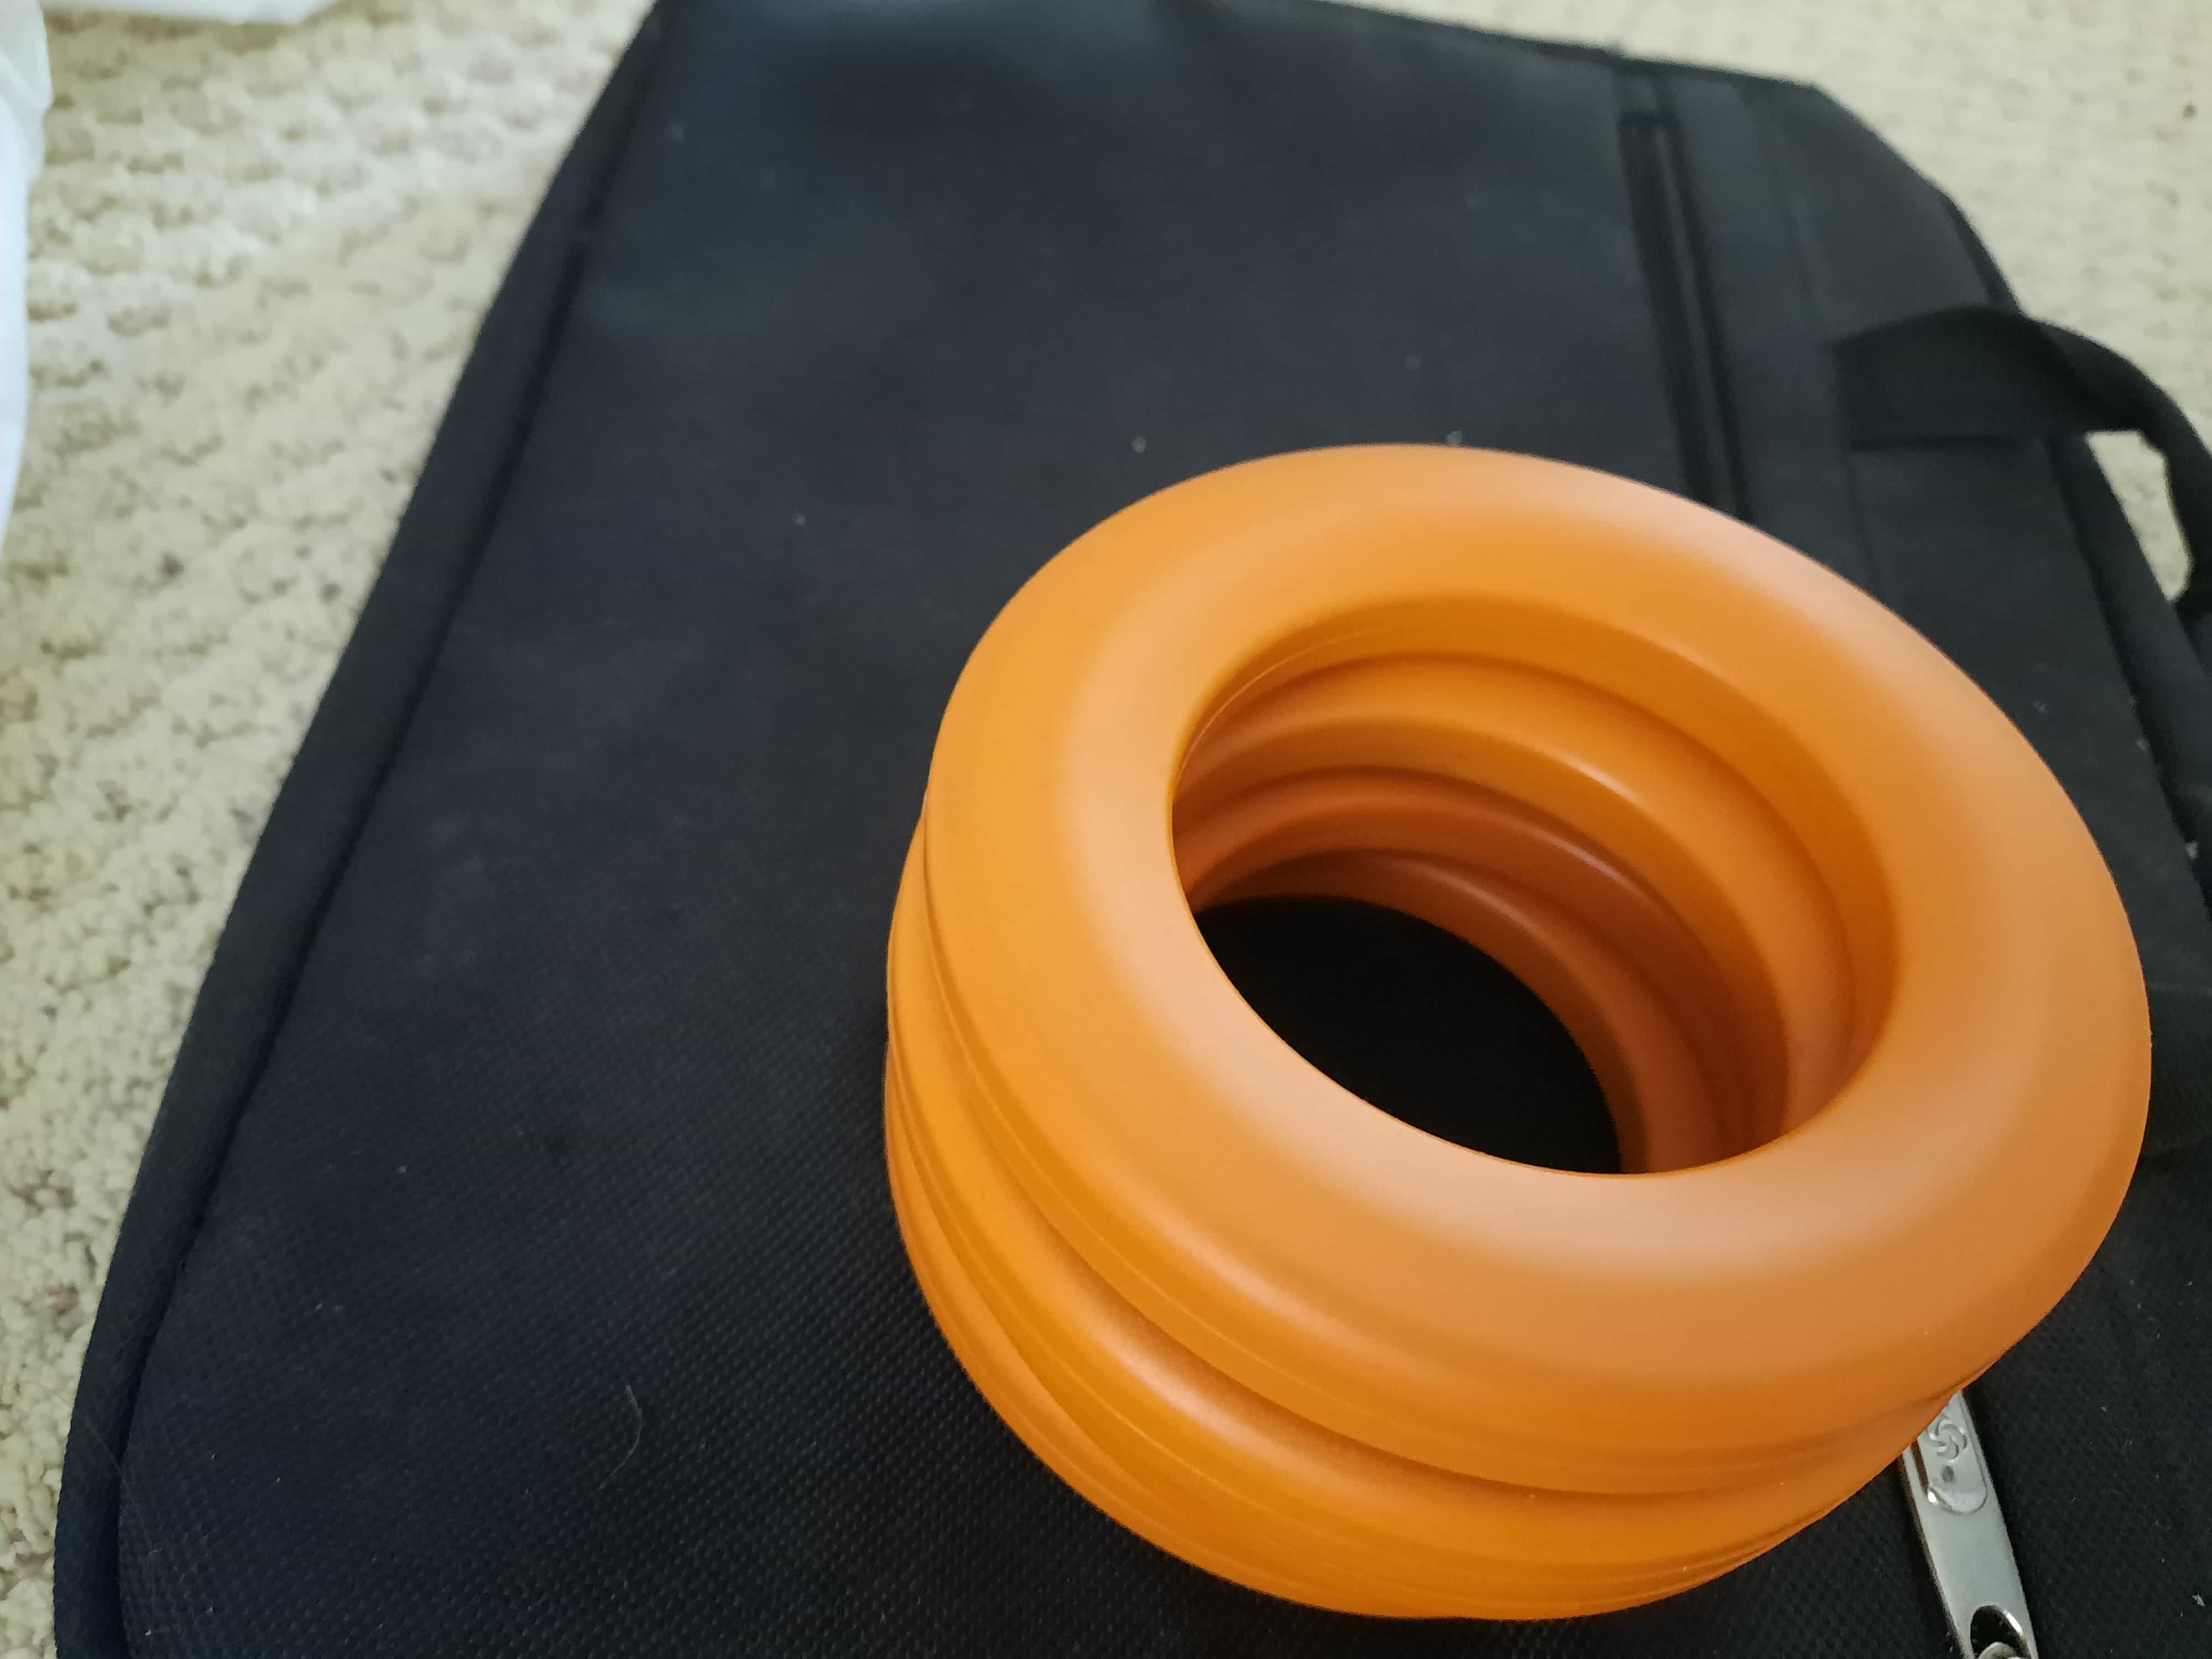FourStack: (880, 455, 2146, 1621)
